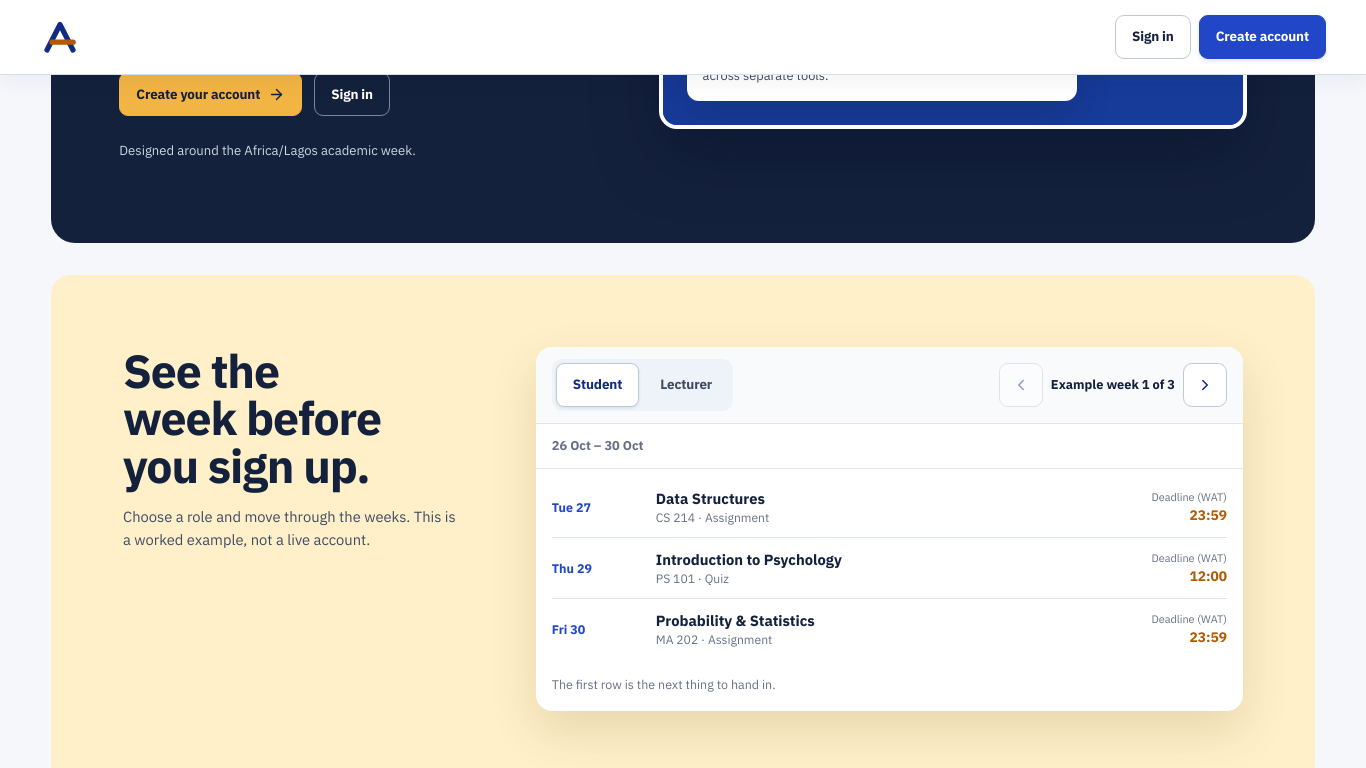
the week range moves with the stepper and comes back
(page scrolled)
Expected: the text "Example week 1 of 3" is shown, [1051,376,1175,393]
Click the button named "Next week".
click(1205, 385)  # box [1183,363,1227,407]
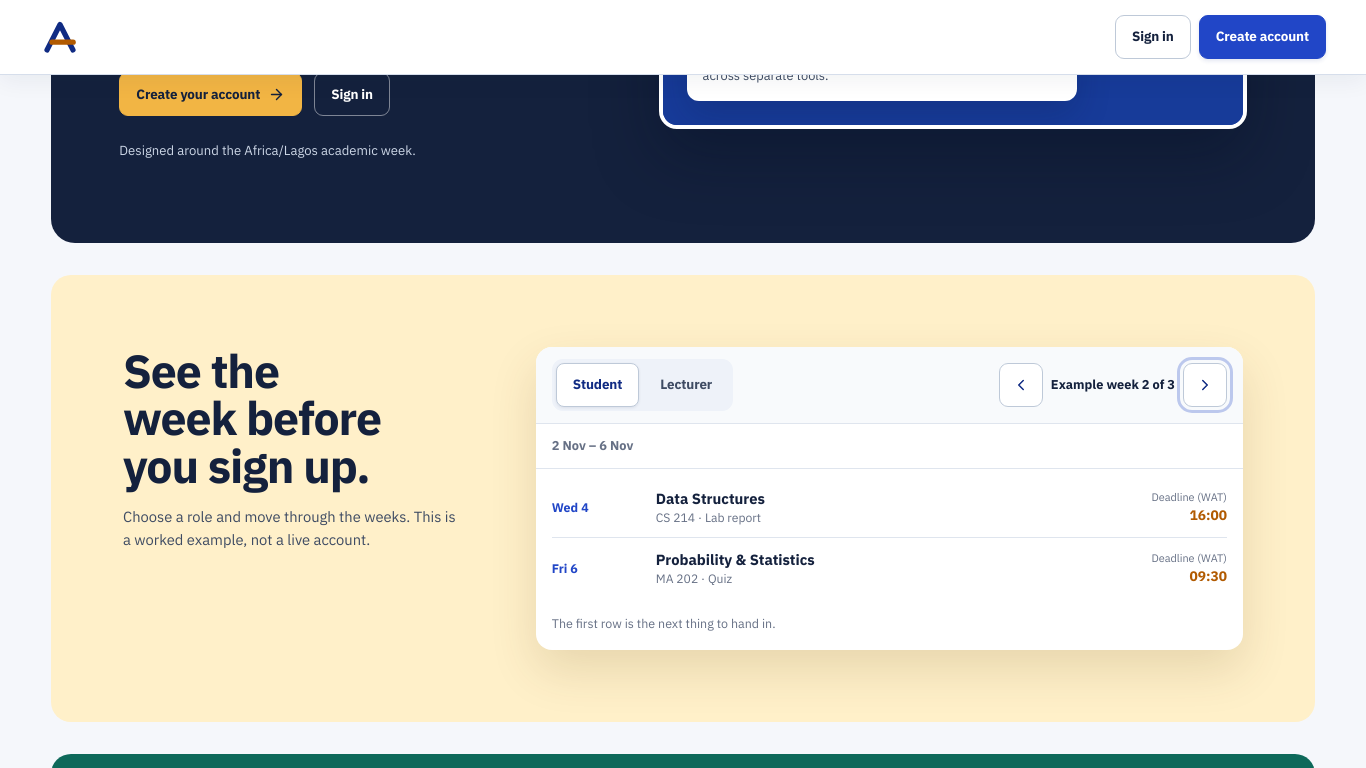
Expected: the text "Example week 2 of 3" is shown, [1051,376,1175,393]
Click the button named "Previous week".
click(1021, 385)  # box [999,363,1043,407]
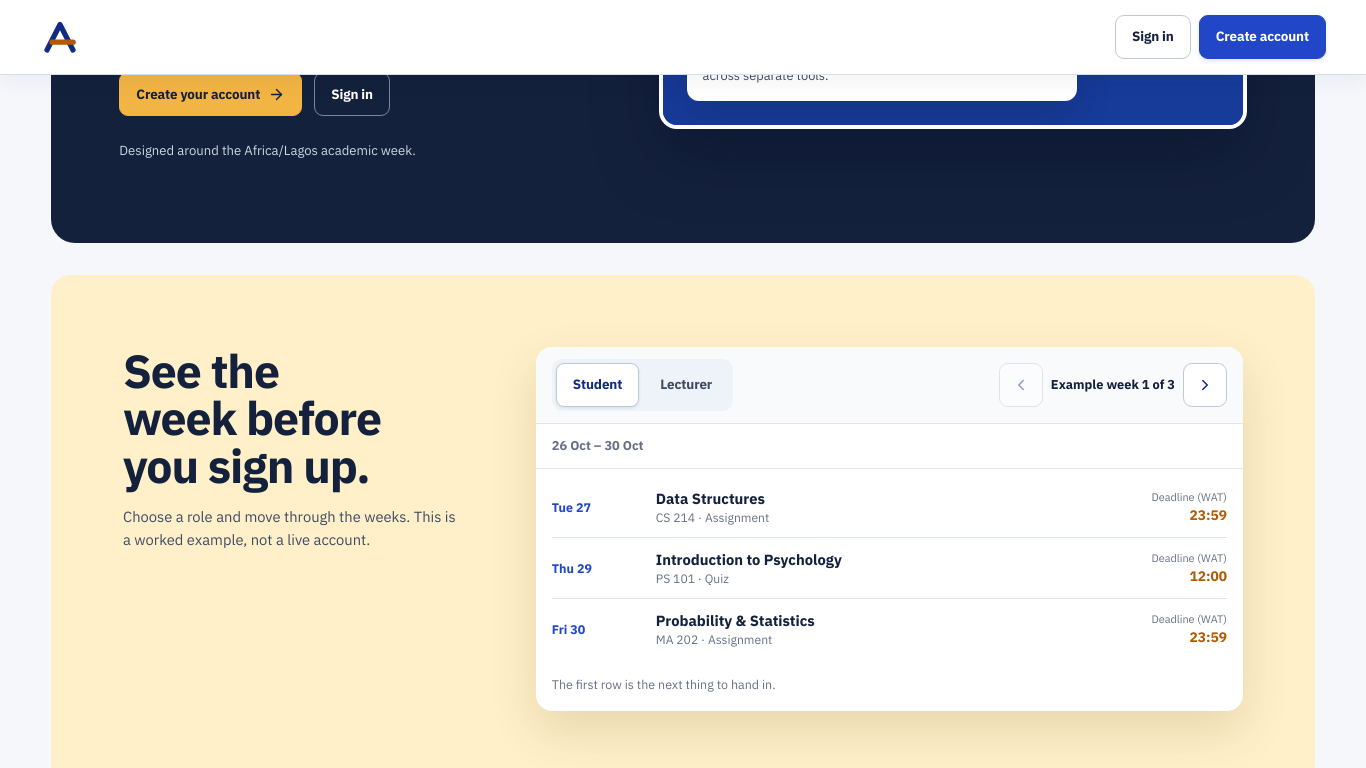
Expected: the text "Example week 1 of 3" is shown, [1051,376,1175,393]
